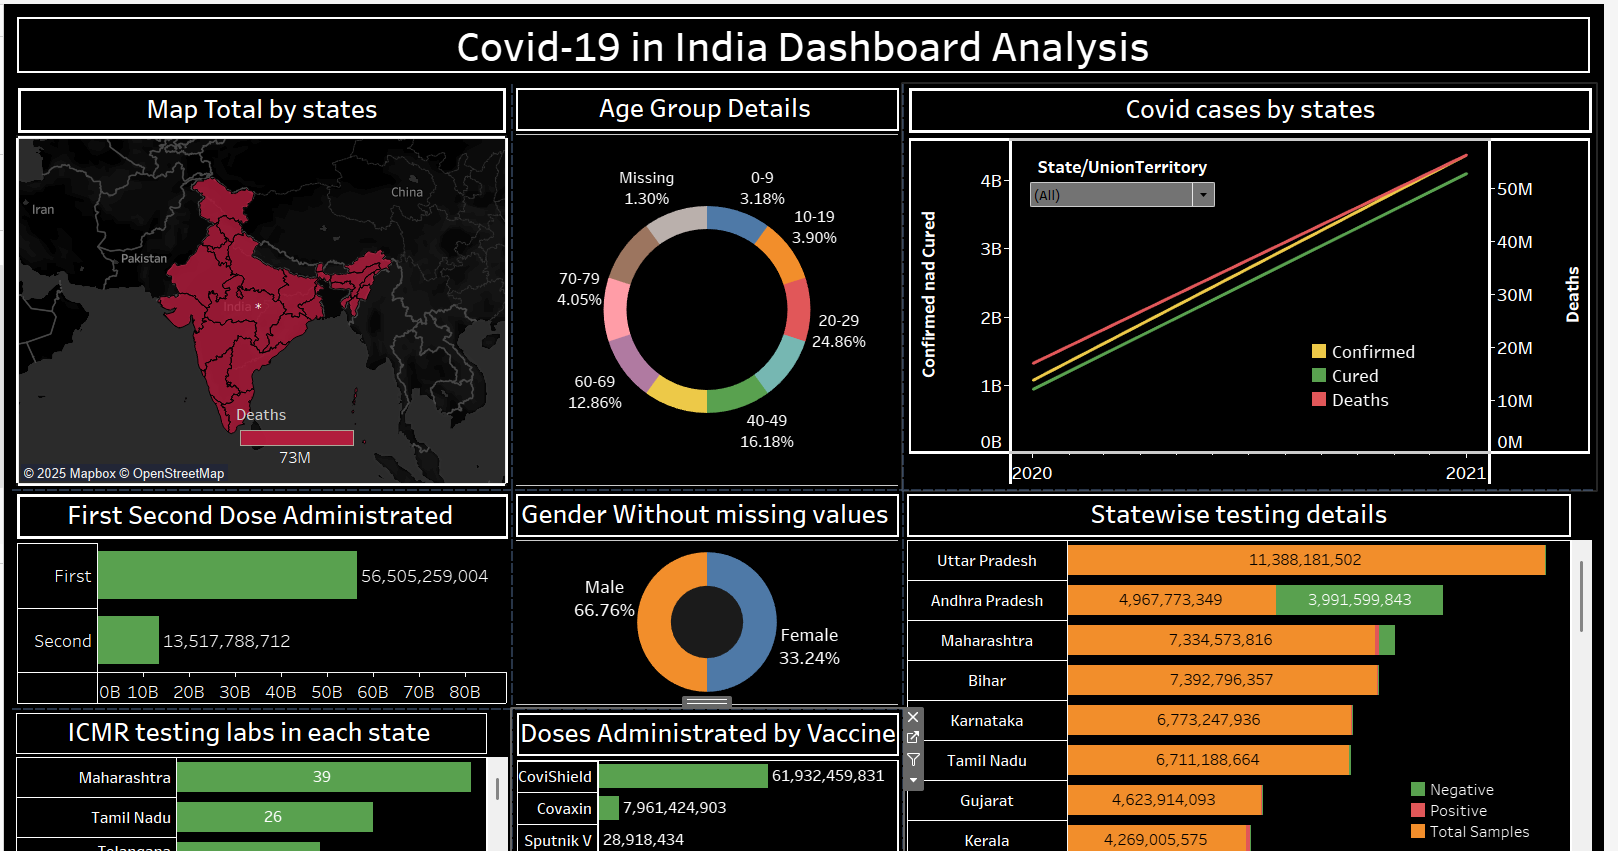

What the dashboard file says about the page in this screenshot:
{"tool":"tableau","page":{"name":"Dashboard 1","canvas":[1600,900],"ordinal":0},"visuals":[{"type":"worksheet","title":"Title","mark":"Automatic","box":[8,8,1584,72]},{"type":"worksheet","title":"Map Total by states","mark":"Automatic","box":[8,80,500,406]},{"type":"worksheet","title":"Age Group Details ","mark":"Pie","rows":["Calculation_1392456715814010883","Calculation_1392456715814080518"],"box":[508,80,391,406]},{"type":"worksheet","title":"Covid cases by states","mark":"Automatic","rows":["Deaths"],"cols":["Date"],"box":[899,80,693,406]},{"type":"filter","title":"Covid cases by states","param":"[federated.1xbpz5d1b5xs94166i9y61n9368r].[none:State/UnionTerritory:nk]","box":[1023,151,191,68]},{"type":"legend","title":"Covid cases by states","param":"[federated.1xbpz5d1b5xs94166i9y61n9368r].[:Measure Names]","box":[1299,331,133,80]},{"type":"legend","title":"Map Total by states","param":"[federated.1xbpz5d1b5xs94166i9y61n9368r].[sum:Deaths:qk]","box":[232,400,122,68]},{"type":"worksheet","title":"First Second Dose Administrated ","mark":"Automatic","box":[8,486,500,219]},{"type":"worksheet","title":"Gender Without missing values ","mark":"Pie","rows":["Calculation_1392456715819130888","Calculation_1392456715819163658"],"box":[508,486,391,219]},{"type":"worksheet","title":"Statewise testing details","mark":"Automatic","rows":["State"],"box":[899,486,693,406]},{"type":"worksheet","title":"ICMR testing labs in each state ","mark":"Automatic","rows":["state"],"cols":["lab"],"box":[8,705,500,187]},{"type":"worksheet","title":"Doses Administrated by Vaccine ","mark":"Automatic","box":[508,705,391,187]},{"type":"legend","title":"Statewise testing details","param":"[federated.1b0smsl0av1ykt1clgrys1jqtc7l].[:Measure Names]","box":[1404,775,140,63]}]}

Visuals, with their boxes on the page's 1600x900 design canvas (x1, y1, x2, y2). These are canvas units, not pixel positions in the 1618x851 screenshot, which may show the page scaled, cropped or inside an application window:
"Title" worksheet: {"x1": 8, "y1": 8, "x2": 1592, "y2": 80}
"Map Total by states" worksheet: {"x1": 8, "y1": 80, "x2": 508, "y2": 486}
"Age Group Details " worksheet (Pie marks): {"x1": 508, "y1": 80, "x2": 899, "y2": 486}
"Covid cases by states" worksheet: {"x1": 899, "y1": 80, "x2": 1592, "y2": 486}
"Covid cases by states" filter: {"x1": 1023, "y1": 151, "x2": 1214, "y2": 219}
"Covid cases by states" legend: {"x1": 1299, "y1": 331, "x2": 1432, "y2": 411}
"Map Total by states" legend: {"x1": 232, "y1": 400, "x2": 354, "y2": 468}
"First Second Dose Administrated " worksheet: {"x1": 8, "y1": 486, "x2": 508, "y2": 705}
"Gender Without missing values " worksheet (Pie marks): {"x1": 508, "y1": 486, "x2": 899, "y2": 705}
"Statewise testing details" worksheet: {"x1": 899, "y1": 486, "x2": 1592, "y2": 892}
"ICMR testing labs in each state " worksheet: {"x1": 8, "y1": 705, "x2": 508, "y2": 892}
"Doses Administrated by Vaccine " worksheet: {"x1": 508, "y1": 705, "x2": 899, "y2": 892}
"Statewise testing details" legend: {"x1": 1404, "y1": 775, "x2": 1544, "y2": 838}
